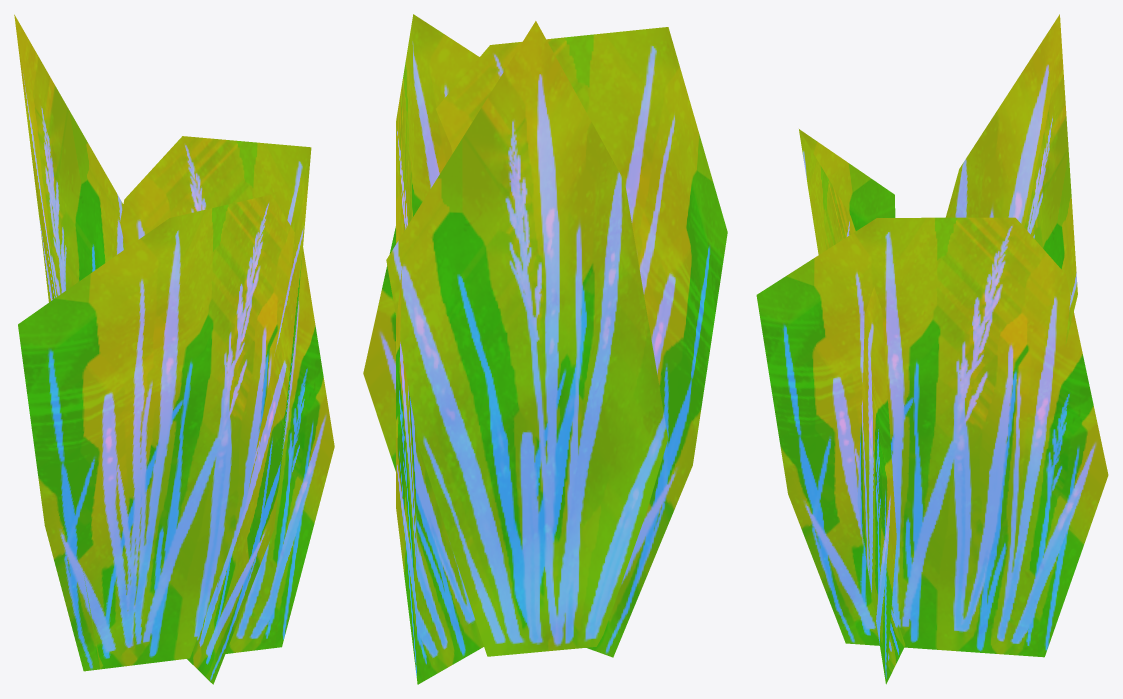
Rendered from SM_Alpha_grass_tall.fbx.
3 views of the same model, side by side, from view 1: azimuth 30°, elevation 25°; view 2: azimuth 150°, elevation 25°; view 3: azimuth 270°, elevation 25° (orthographic). The views are drawn at different scales.
Parts seen in each view (by area): view 1: SM_Alpha_grass_tall_LOD0; view 2: SM_Alpha_grass_tall_LOD0; view 3: SM_Alpha_grass_tall_LOD0.
Boxes of the visible parts, x1,y1,x2,y2 form: SM_Alpha_grass_tall_LOD0: (14, 14, 334, 684); SM_Alpha_grass_tall_LOD0: (363, 14, 727, 684); SM_Alpha_grass_tall_LOD0: (756, 14, 1108, 684).
Bounding box in the file's own units: 63.38 × 63.15 × 117.
